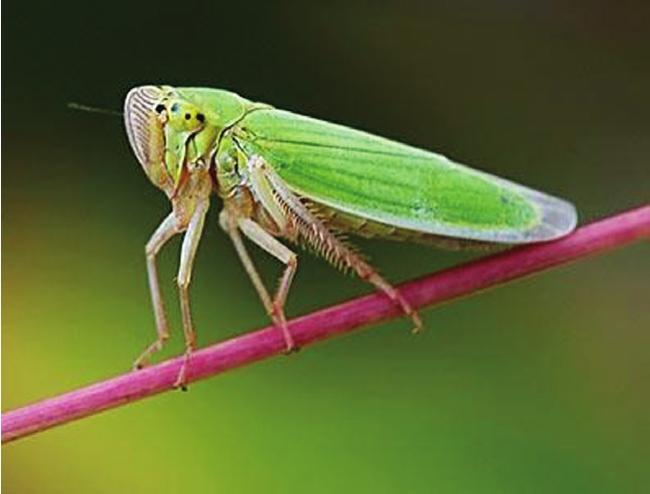Cicadellidae: (123, 85, 579, 383)
